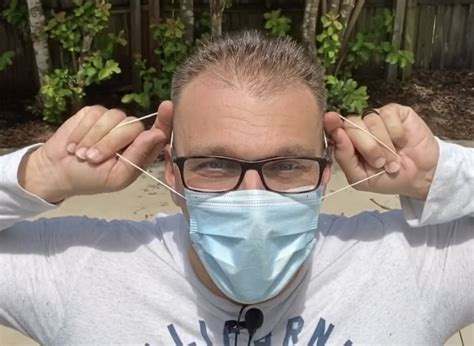sem_capacete: (174, 69, 325, 306)
